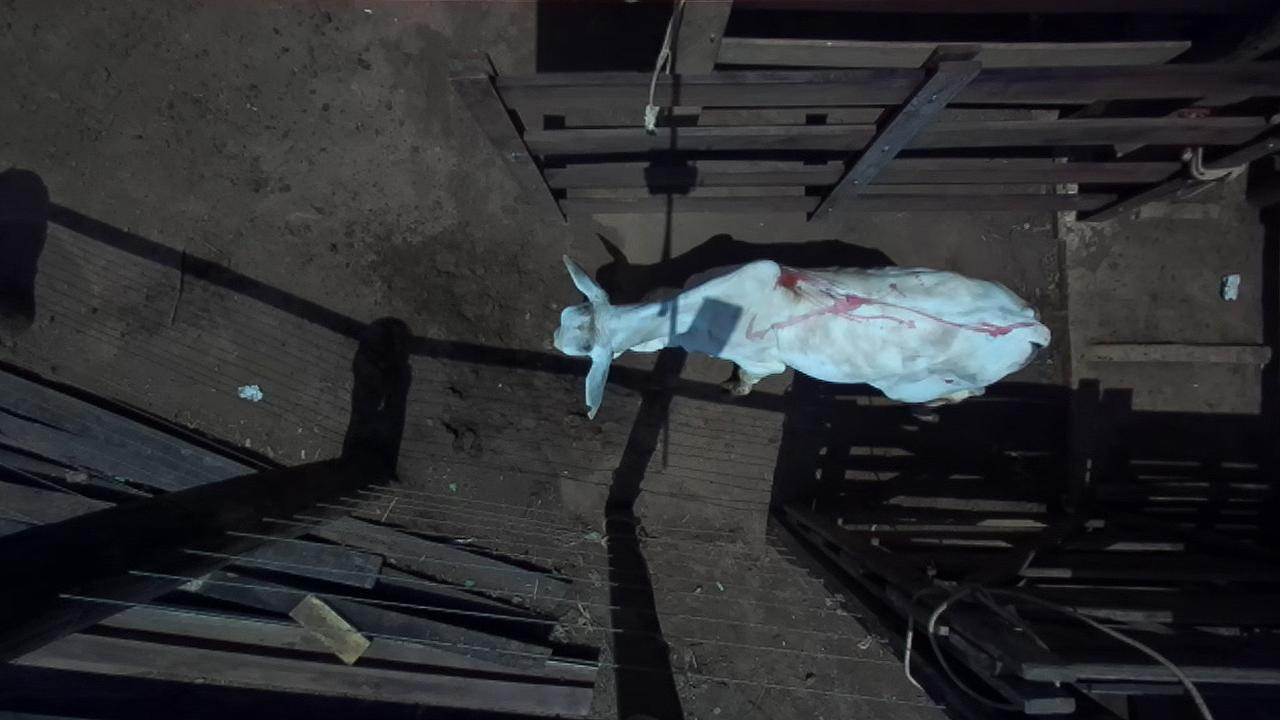cattle: (551, 249, 1052, 420)
